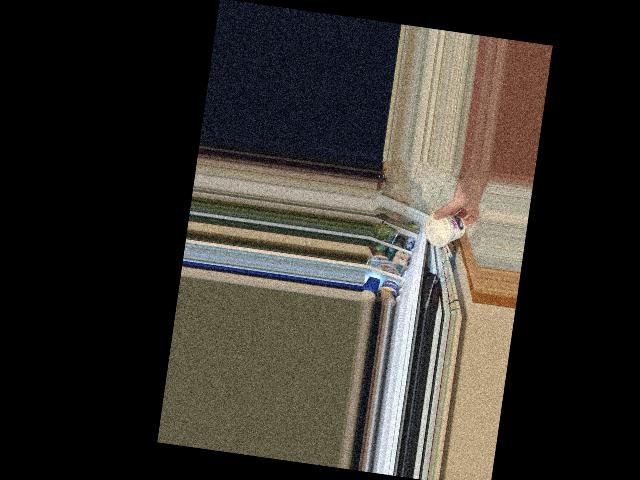cotage: (421, 205, 466, 248)
